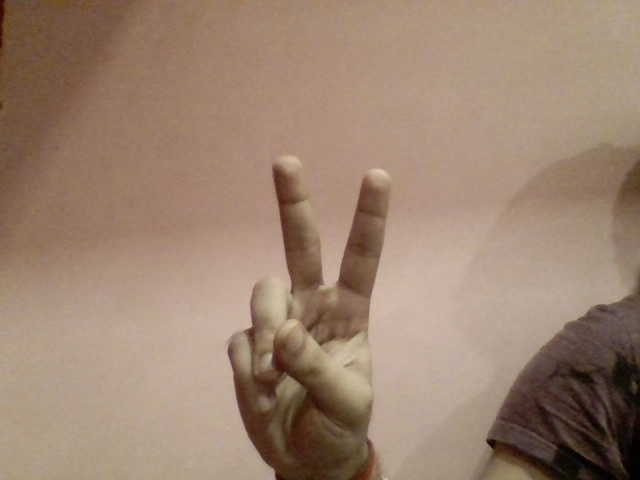v: (210, 148, 419, 468)
